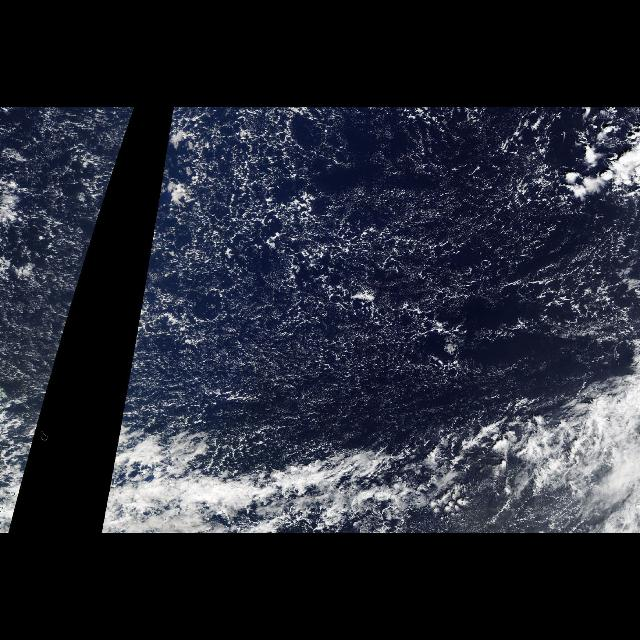Gravel: (117, 108, 635, 438), (8, 108, 136, 438)
Sugar: (163, 366, 475, 416)
